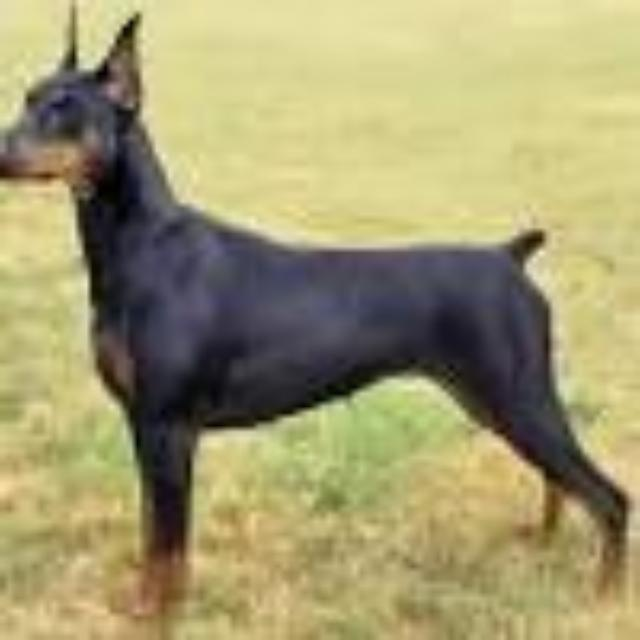dog: (1, 1, 630, 564)
